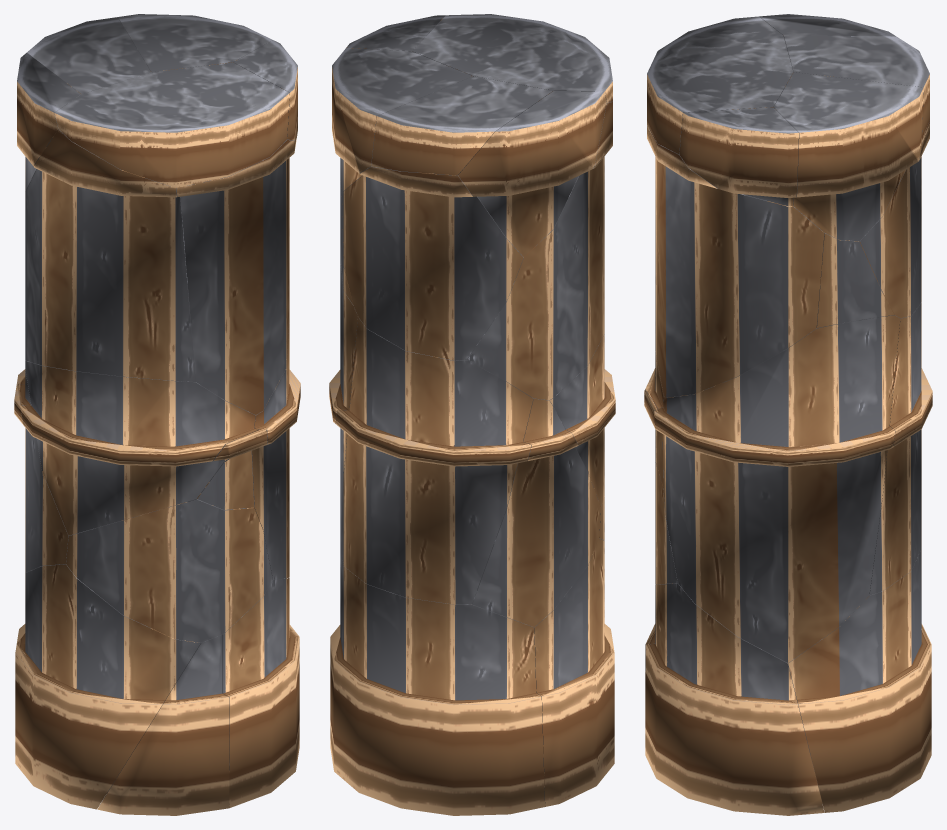
The model's file is Columnas_v2_rota.gltf.
3 renders of one model, left to right at view 1: azimuth 30°, elevation 25°; view 2: azimuth 150°, elevation 25°; view 3: azimuth 270°, elevation 25°, orthographic.
Parts seen in each view (by area): view 1: Column_v2_cell.019, Column_v2_cell.006, Column_v2_cell.010, Column_v2_cell.009, Column_v2_cell.017, Column_v2_cell.007, Column_v2_cell.016, Column_v2_cell.014, Column_v2_cell.015, Column_v2_cell.004, Column_v2_cell.013, Column_v2_cell (+4 smaller); view 2: Column_v2_cell.003, Column_v2_cell.018, Column_v2_cell.008, Column_v2_cell.019, Column_v2_cell, Column_v2_cell.006, Column_v2_cell.011, Column_v2_cell.017, Column_v2_cell.013, Column_v2_cell.004, Column_v2_cell.010, Column_v2_cell.015 (+1 smaller); view 3: Column_v2_cell.015, Column_v2_cell.009, Column_v2_cell.016, Column_v2_cell.003, Column_v2_cell.004, Column_v2_cell.017, Column_v2_cell.018, Column_v2_cell.001, Column_v2_cell.013, Column_v2_cell.008, Column_v2_cell.019, Column_v2_cell.011 (+1 smaller).
Part boxes in pixels (bbox=[...]): Column_v2_cell.019: bbox=[25, 129, 195, 381]; Column_v2_cell.006: bbox=[15, 564, 200, 809]; Column_v2_cell.010: bbox=[20, 360, 258, 535]; Column_v2_cell.009: bbox=[176, 139, 296, 414]; Column_v2_cell.017: bbox=[54, 62, 289, 187]; Column_v2_cell.007: bbox=[66, 499, 272, 642]; Column_v2_cell.016: bbox=[200, 578, 299, 808]; Column_v2_cell.014: bbox=[97, 634, 229, 815]; Column_v2_cell.015: bbox=[188, 319, 300, 579]; Column_v2_cell.004: bbox=[118, 14, 272, 72]; Column_v2_cell.013: bbox=[27, 17, 151, 94]; Column_v2_cell: bbox=[14, 370, 186, 572]; Column_v2_cell.003: bbox=[330, 561, 544, 815]; Column_v2_cell.018: bbox=[336, 317, 533, 604]; Column_v2_cell.008: bbox=[342, 166, 523, 360]; Column_v2_cell.019: bbox=[340, 101, 612, 400]; Column_v2_cell: bbox=[472, 398, 600, 627]; Column_v2_cell.006: bbox=[523, 538, 614, 806]; Column_v2_cell.011: bbox=[458, 91, 606, 256]; Column_v2_cell.017: bbox=[412, 14, 612, 102]; Column_v2_cell.013: bbox=[371, 76, 552, 175]; Column_v2_cell.004: bbox=[332, 48, 472, 197]; Column_v2_cell.010: bbox=[549, 334, 615, 506]; Column_v2_cell.015: bbox=[329, 265, 357, 567]; Column_v2_cell.015: bbox=[654, 315, 900, 662]; Column_v2_cell.009: bbox=[647, 126, 824, 397]; Column_v2_cell.016: bbox=[645, 583, 824, 815]; Column_v2_cell.003: bbox=[787, 549, 931, 812]; Column_v2_cell.004: bbox=[773, 72, 923, 241]; Column_v2_cell.017: bbox=[647, 16, 793, 154]; Column_v2_cell.018: bbox=[869, 303, 932, 595]; Column_v2_cell.001: bbox=[679, 107, 798, 206]; Column_v2_cell.013: bbox=[783, 35, 929, 141]; Column_v2_cell.008: bbox=[860, 121, 929, 318]; Column_v2_cell.019: bbox=[816, 232, 894, 328]; Column_v2_cell.011: bbox=[759, 14, 895, 36].
Bounding box in the file's own units: 1.7 × 4.43 × 1.7.
1 material, 1 textured.
